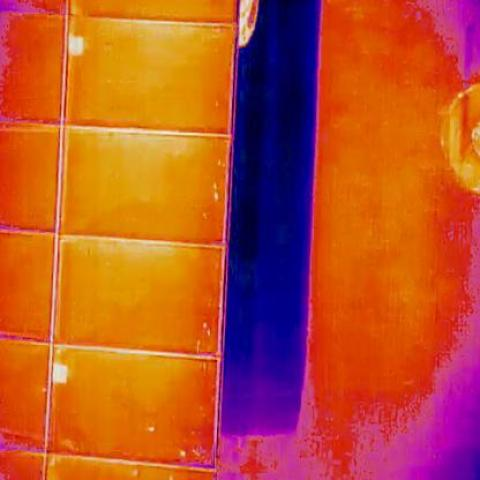fault: (63, 33, 88, 60), (49, 363, 71, 386)
